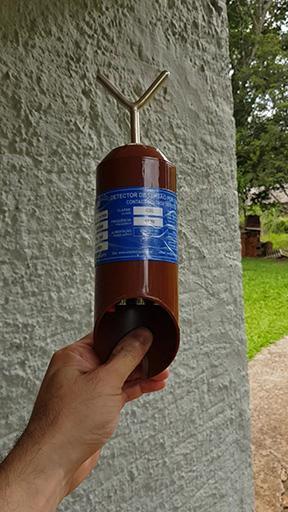Detector_Tensao_Contato: (94, 69, 180, 382)
